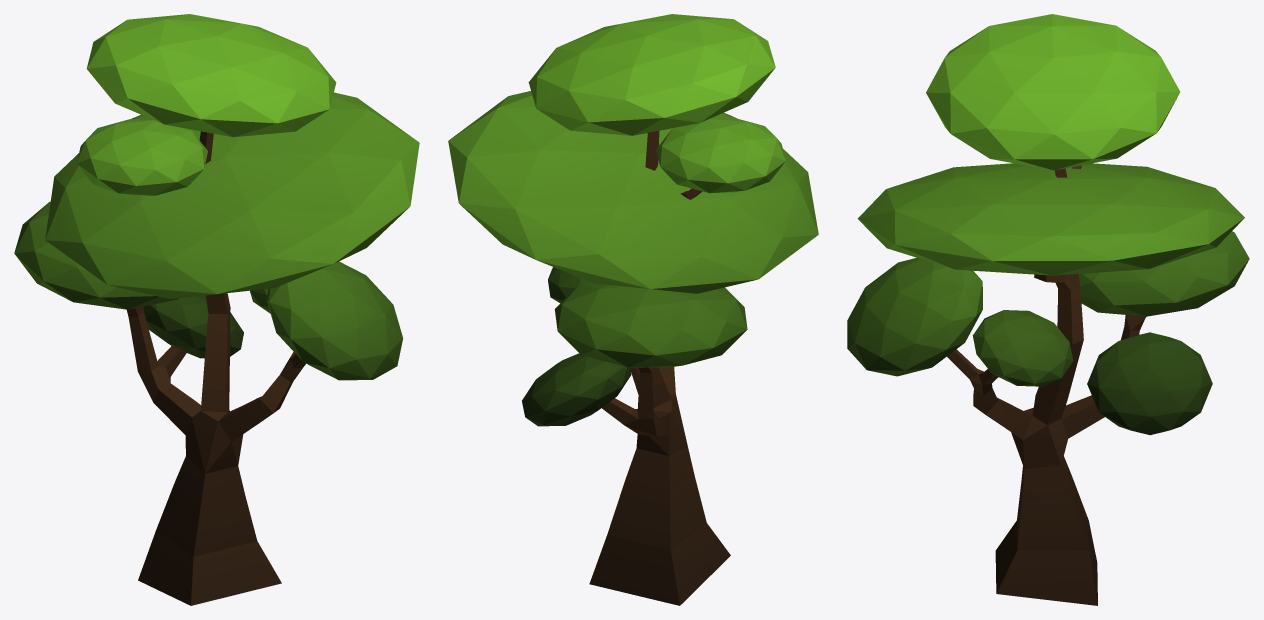
Rendered from RandomTree.fbx.
3 renders of one model, left to right at view 1: azimuth 30°, elevation 25°; view 2: azimuth 150°, elevation 25°; view 3: azimuth 270°, elevation 25°, orthographic. The views are drawn at different scales.
Parts seen in each view (by area): view 1: Tree_Branchy; view 2: Tree_Branchy; view 3: Tree_Branchy.
Boxes of the visible parts, left/top/right/bottom form: Tree_Branchy: left=14, top=14, right=419, bottom=605; Tree_Branchy: left=448, top=14, right=818, bottom=605; Tree_Branchy: left=847, top=14, right=1249, bottom=605.
Size of the model in its own units: 363 by 609 by 415.
